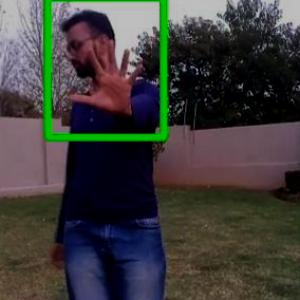follow_hand: (64, 33, 150, 121)
